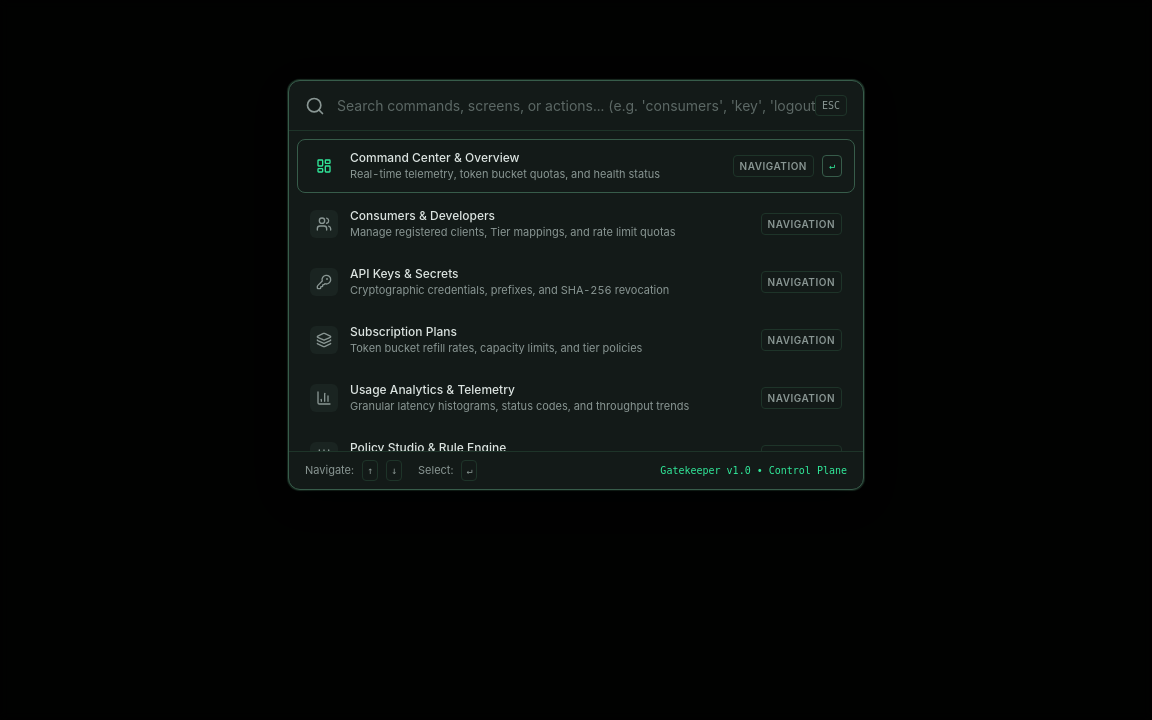
Scenario: CommandPalette Component › filters commands according to search query
The image size is (1152, 720).
Replace the text in the field with placeholder "Search commands" with "consumer": (576, 106) [337, 96, 815, 116]
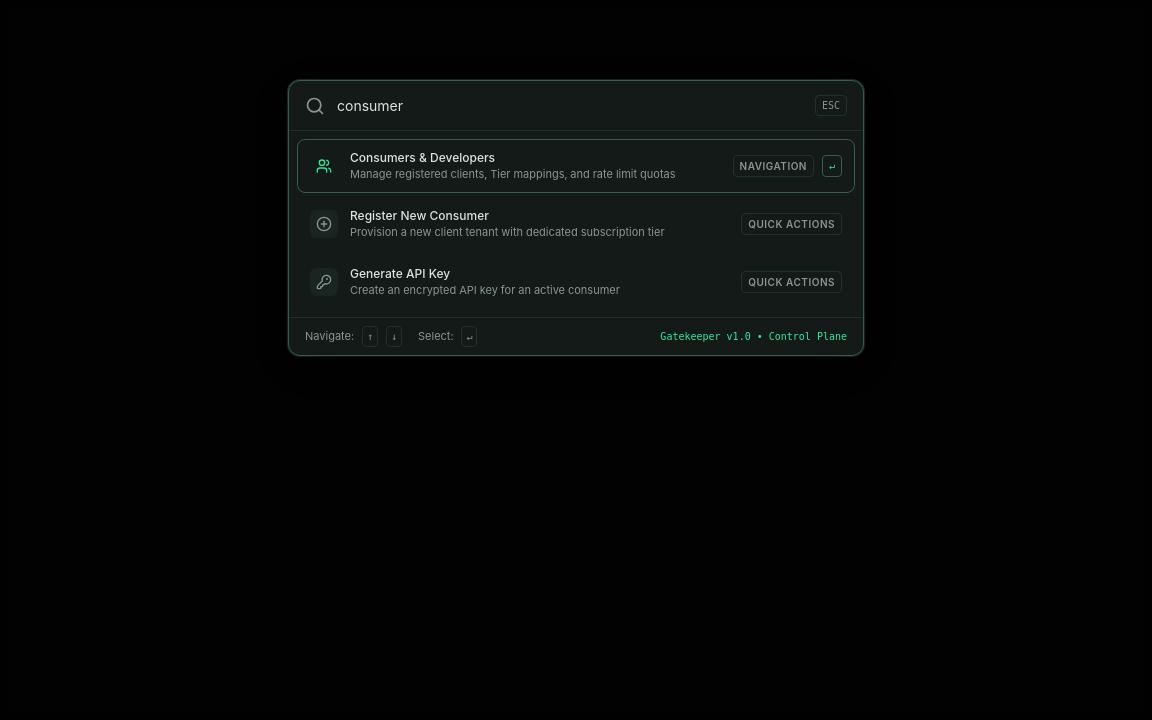
expect the text "Consumers & Developers" is shown: met, box [350, 150, 495, 165]
expect the text "Register New Consumer" is shown: met, box [350, 208, 489, 223]
expect the text "Command Center & Overview" is gone: met
